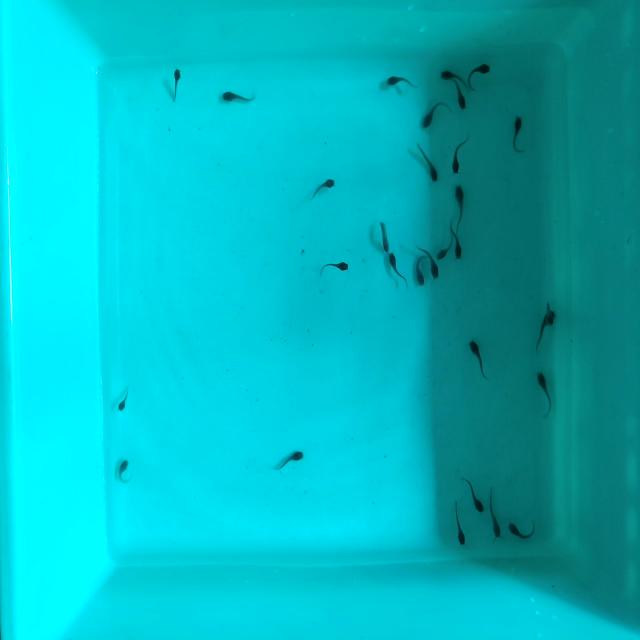lele: (461, 473, 487, 517), (467, 335, 491, 382), (532, 309, 556, 355), (414, 141, 440, 183), (416, 242, 442, 280), (386, 249, 411, 286), (273, 447, 305, 475), (420, 98, 444, 130), (310, 174, 336, 201), (506, 518, 532, 544), (464, 60, 490, 85), (450, 76, 469, 110), (448, 221, 464, 261), (489, 486, 500, 535), (221, 89, 256, 104), (453, 502, 465, 545), (435, 237, 455, 262), (538, 372, 550, 413), (440, 68, 467, 85), (451, 138, 462, 175), (321, 260, 350, 273), (415, 253, 425, 287), (172, 66, 182, 99), (456, 183, 464, 224), (379, 219, 388, 252), (514, 117, 522, 152), (118, 387, 128, 414), (386, 74, 409, 85), (119, 459, 128, 482), (546, 304, 553, 326)
